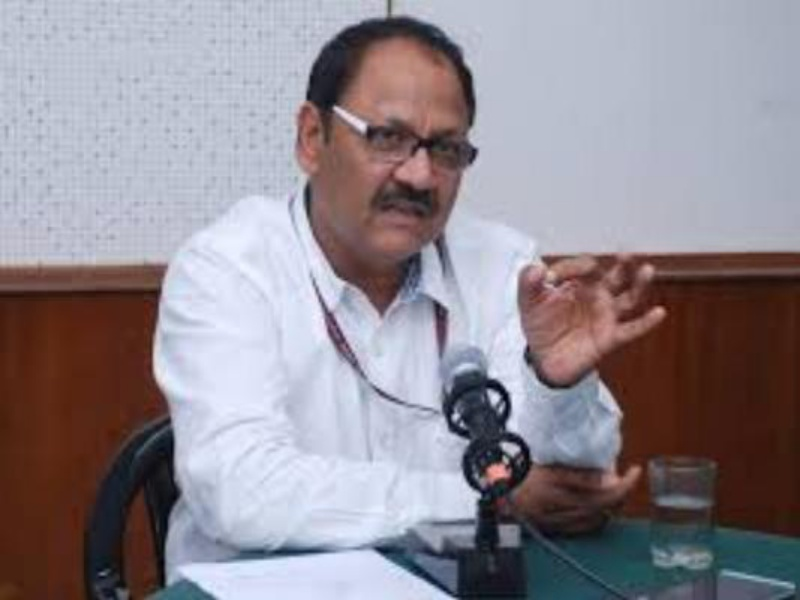TsisyArotava: (287, 8, 518, 280)
